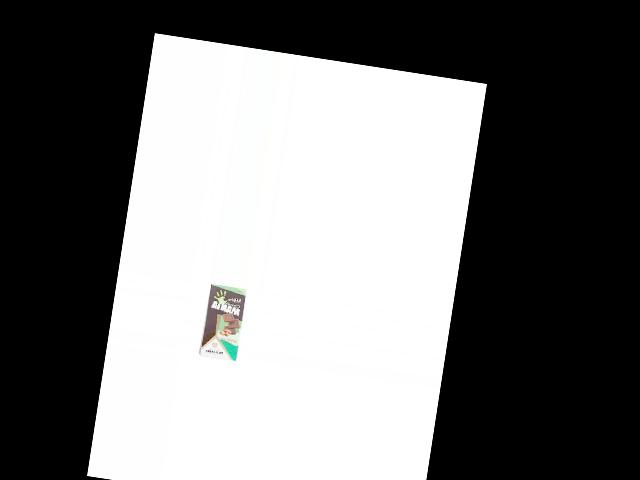chocolate: (197, 282, 249, 363)
